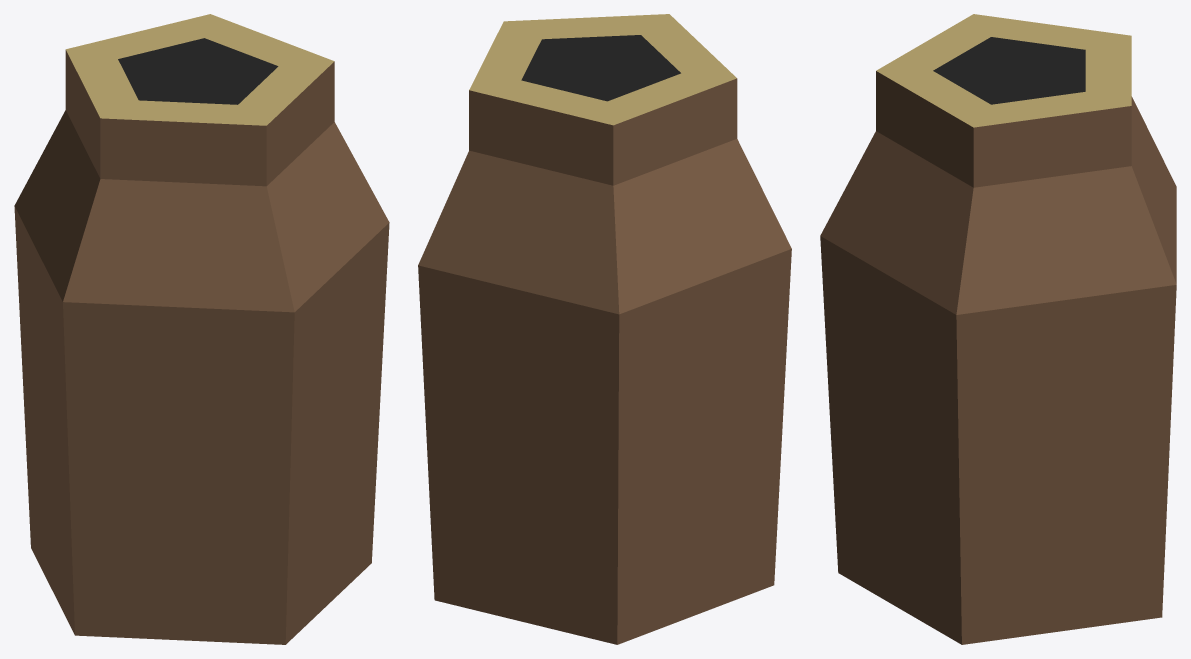
File: TB_D_Prop_Jar_J.FBX
The picture shows the model from 3 angles, left to right: view 1: azimuth 30°, elevation 25°; view 2: azimuth 150°, elevation 25°; view 3: azimuth 270°, elevation 25°; orthographic projection.
Parts seen in each view (by area): view 1: TB_D_Prop_Jar_J; view 2: TB_D_Prop_Jar_J; view 3: TB_D_Prop_Jar_J.
Part boxes in pixels (x1,y1,x2,y2): TB_D_Prop_Jar_J: [14, 14, 389, 644]; TB_D_Prop_Jar_J: [418, 14, 791, 644]; TB_D_Prop_Jar_J: [820, 14, 1176, 644].
Bounding box in the file's own units: 0.6492 × 0.9598 × 0.6175.
